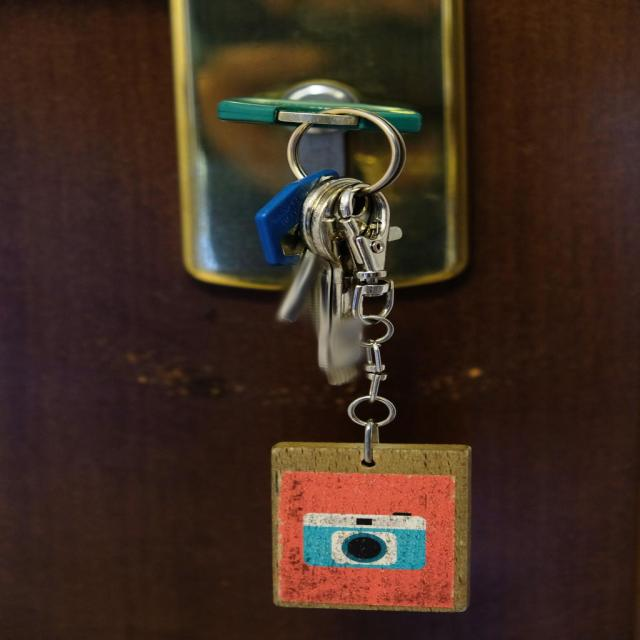Frontdoor keys: (252, 170, 427, 390)
